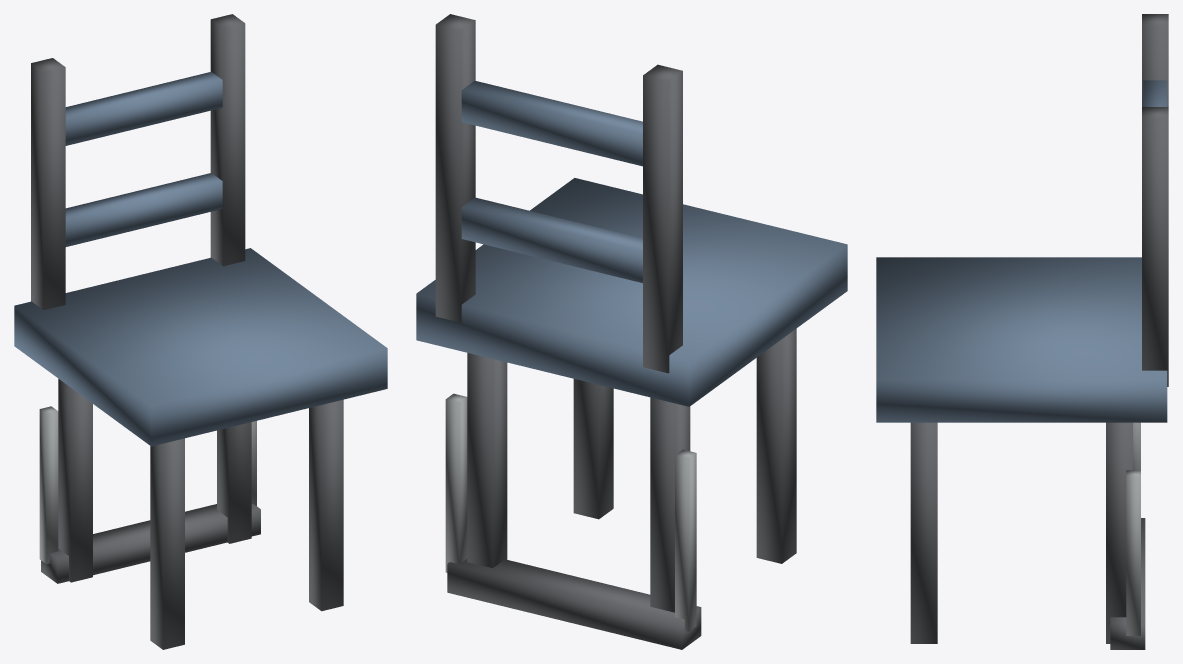
The model's file is armchair__reinforced.glb.
The picture shows the model from 3 angles, left to right: view 1: azimuth 30°, elevation 25°; view 2: azimuth 150°, elevation 25°; view 3: azimuth 270°, elevation 25°; orthographic projection. The views are drawn at different scales.
Visible parts, largest first — view 1: world; view 2: world; view 3: world.
Part boxes in pixels (x1,y1,x2,y2): world: (14,14,387,649); world: (416,14,847,649); world: (876,14,1168,649).
Size of the model in its own units: 0.4991 by 1.01 by 0.5038.
